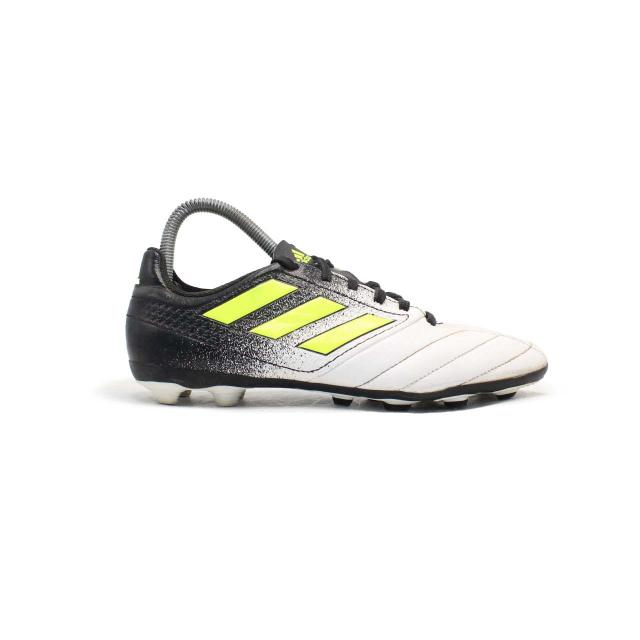heel: (127, 253, 173, 366)
midsole: (134, 366, 545, 415)
uppersole: (169, 234, 542, 391)
